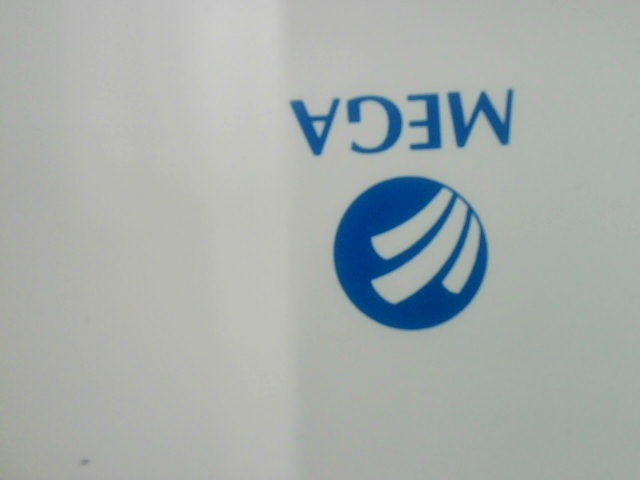AM_ZTEMEGA: (272, 80, 559, 344)
